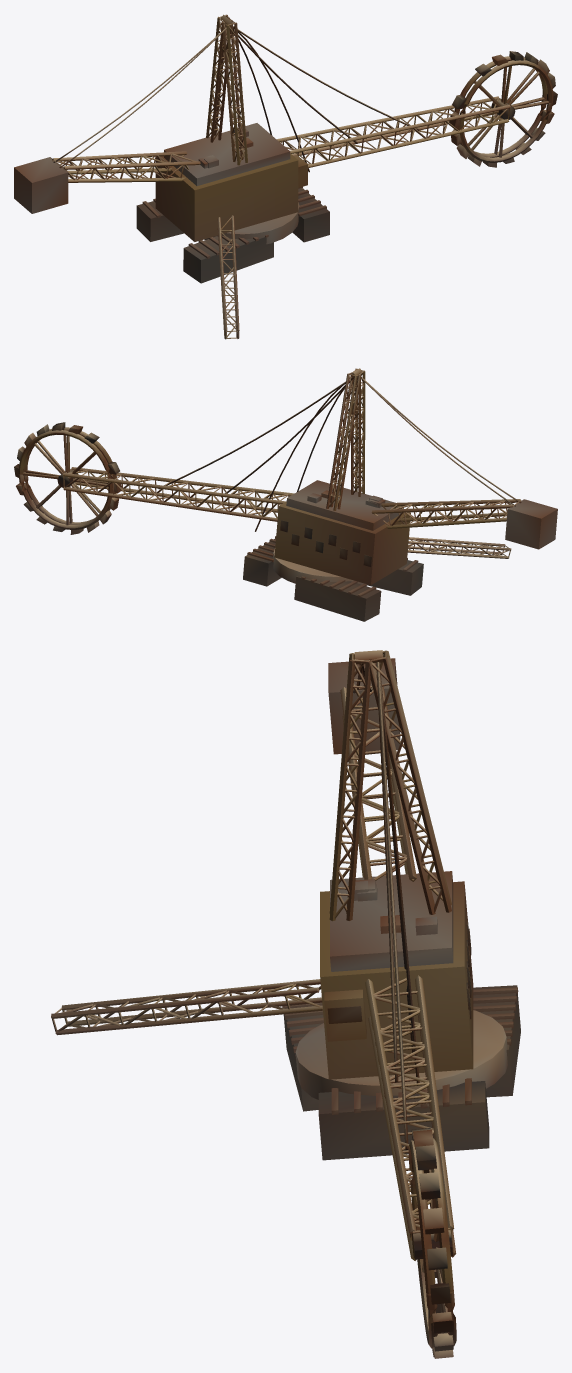
File: landmark.glb
The picture shows the model from 3 angles, top to bottom: view 1: azimuth 30°, elevation 25°; view 2: azimuth 150°, elevation 25°; view 3: azimuth 270°, elevation 25°; orthographic projection. The views are drawn at different scales.
Parts seen in each view (by area): view 1: wreck_lod0; view 2: wreck_lod0; view 3: wreck_lod0.
Part boxes in pixels (x1,y1,x2,y2): wreck_lod0: (14, 14, 557, 339); wreck_lod0: (14, 368, 557, 621); wreck_lod0: (51, 650, 520, 1358).
Size of what is drawn, in the model's own units: 213 by 89.4 by 84.4.
